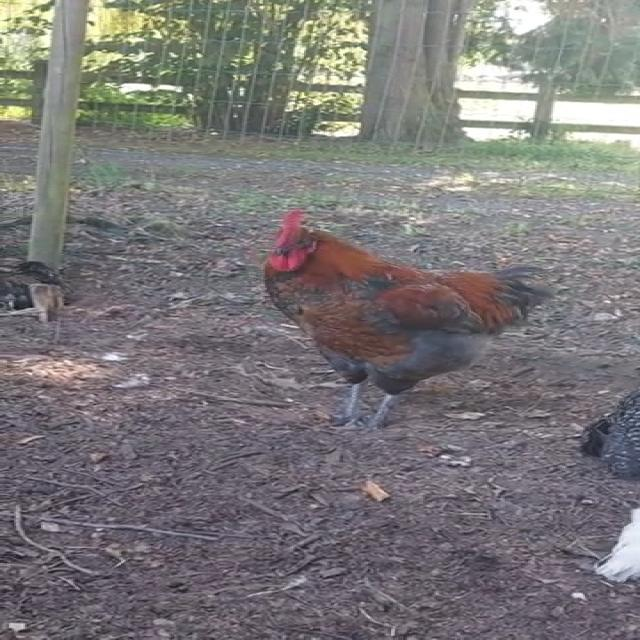walking: (256, 206, 551, 446)
